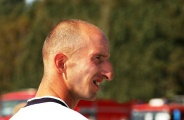male: (54, 19, 116, 104)
